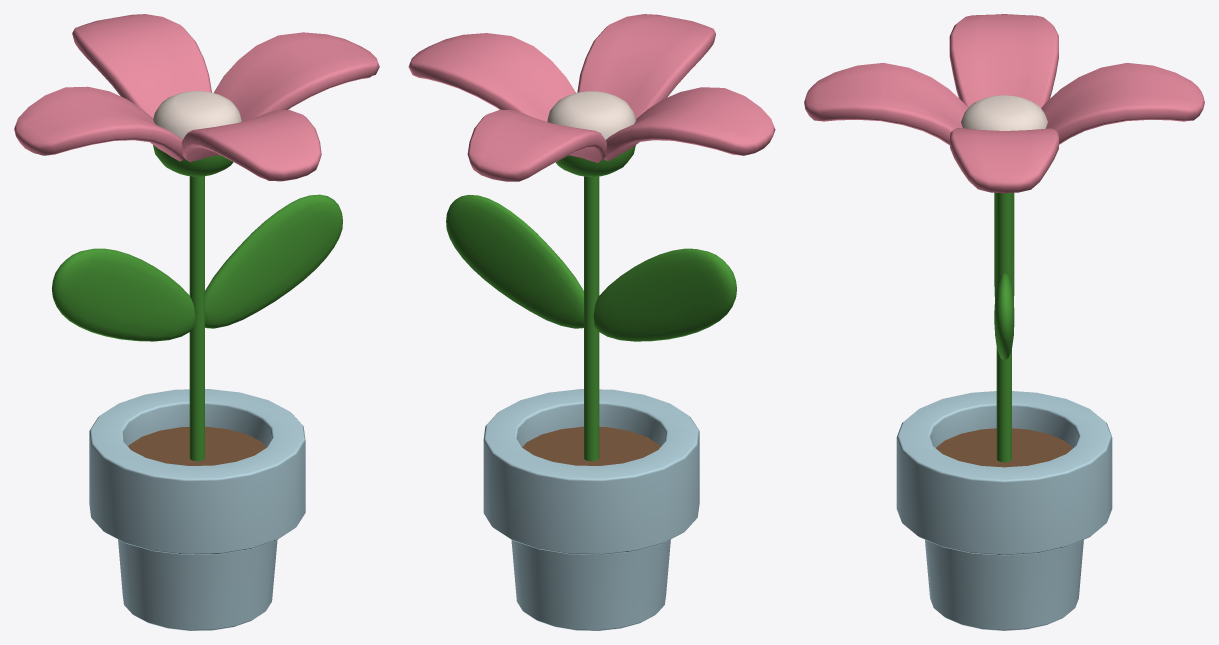
File: Flower_8.glb
The picture shows the model from 3 angles, left to right: view 1: azimuth 30°, elevation 25°; view 2: azimuth 150°, elevation 25°; view 3: azimuth 270°, elevation 25°; orthographic projection.
Visible parts, largest first — view 1: Flower_7; view 2: Flower_7; view 3: Flower_7.
Boxes of the visible parts, x1,y1,x2,y2 form: Flower_7: [14, 14, 379, 630]; Flower_7: [408, 14, 775, 630]; Flower_7: [804, 14, 1204, 630].
Bounding box in the file's own units: 0.3987 × 0.5663 × 0.3987.
1 material, 1 textured.
